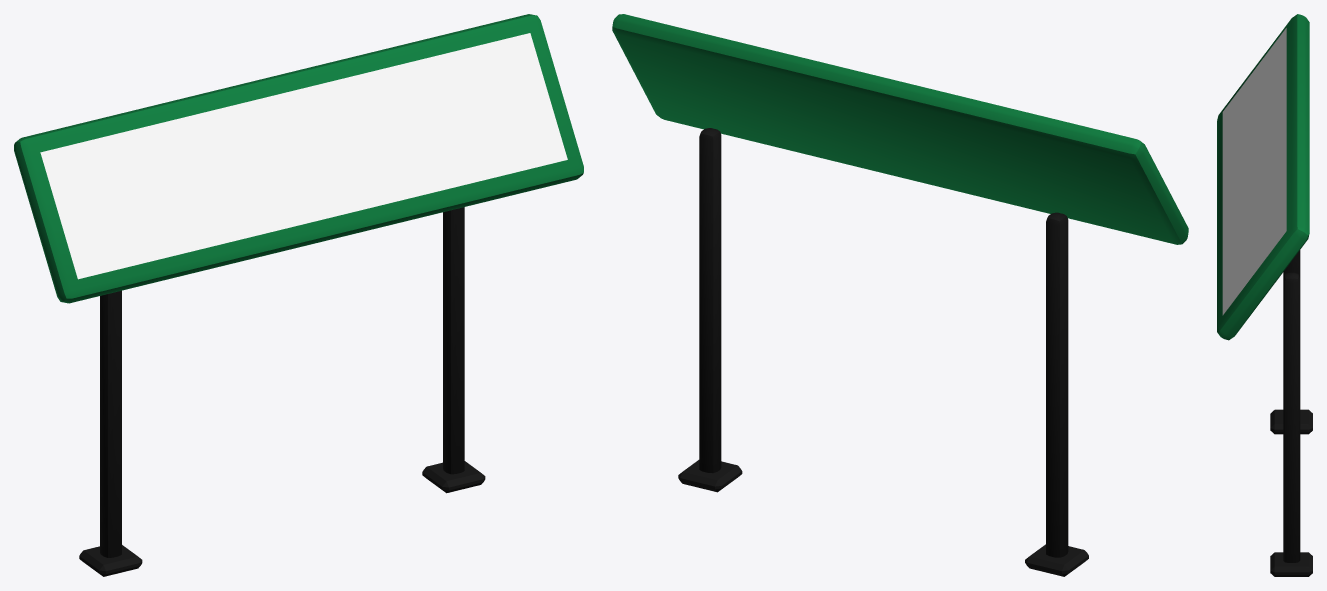
Rendered from street_sign.glb.
3 views of the same model, side by side, from view 1: azimuth 30°, elevation 25°; view 2: azimuth 150°, elevation 25°; view 3: azimuth 270°, elevation 25° (orthographic). The views are drawn at different scales.
Parts seen in each view (by area): view 1: face, street_sign; view 2: street_sign; view 3: street_sign, face.
Boxes of the visible parts, left/top/right/bottom form: face: left=40, top=33, right=567, bottom=279; street_sign: left=14, top=14, right=583, bottom=576; street_sign: left=612, top=14, right=1188, bottom=576; street_sign: left=1217, top=14, right=1312, bottom=576; face: left=1222, top=28, right=1286, bottom=315.
Bounding box in the file's own units: 3.64 × 2.94 × 0.6767.
